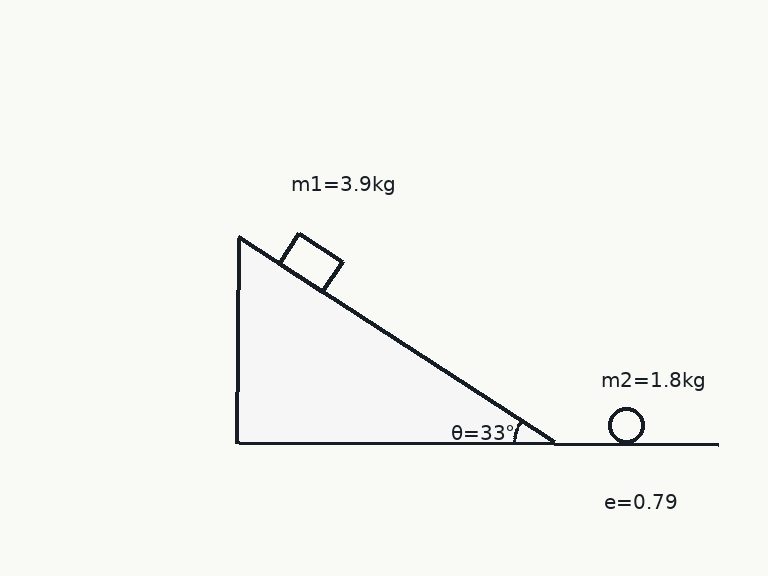ball: (606, 405, 646, 445)
block: (277, 231, 344, 294)
ramp: (236, 236, 556, 445)
